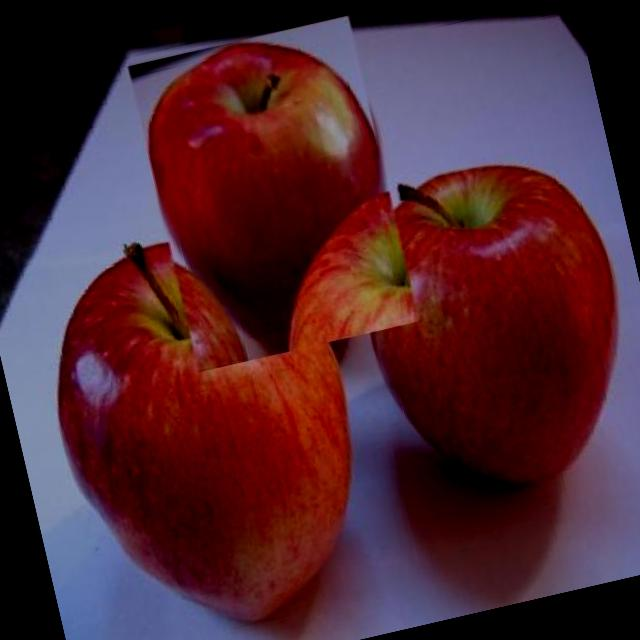Apple: (18, 198, 391, 640), (337, 138, 640, 514), (128, 15, 419, 372)
